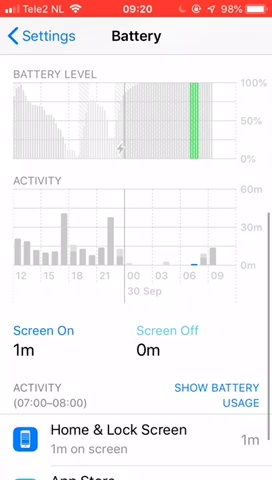activity: (10, 374, 98, 409)
app: (6, 421, 264, 456)
